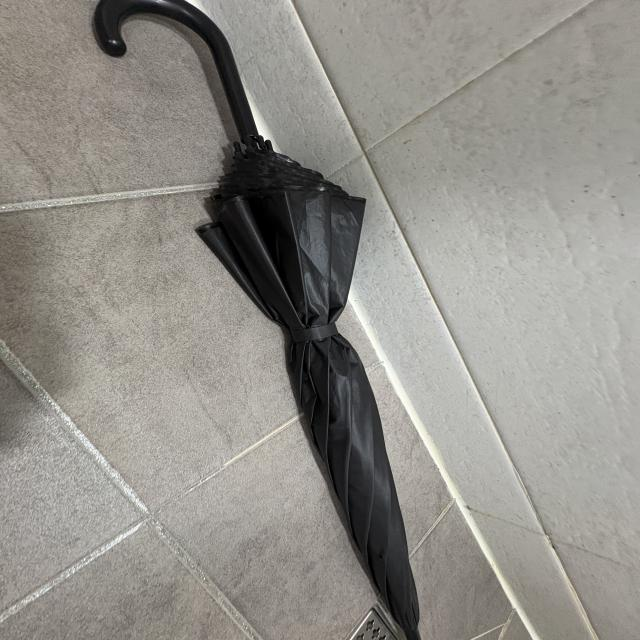umbrella: (93, 0, 419, 640)
